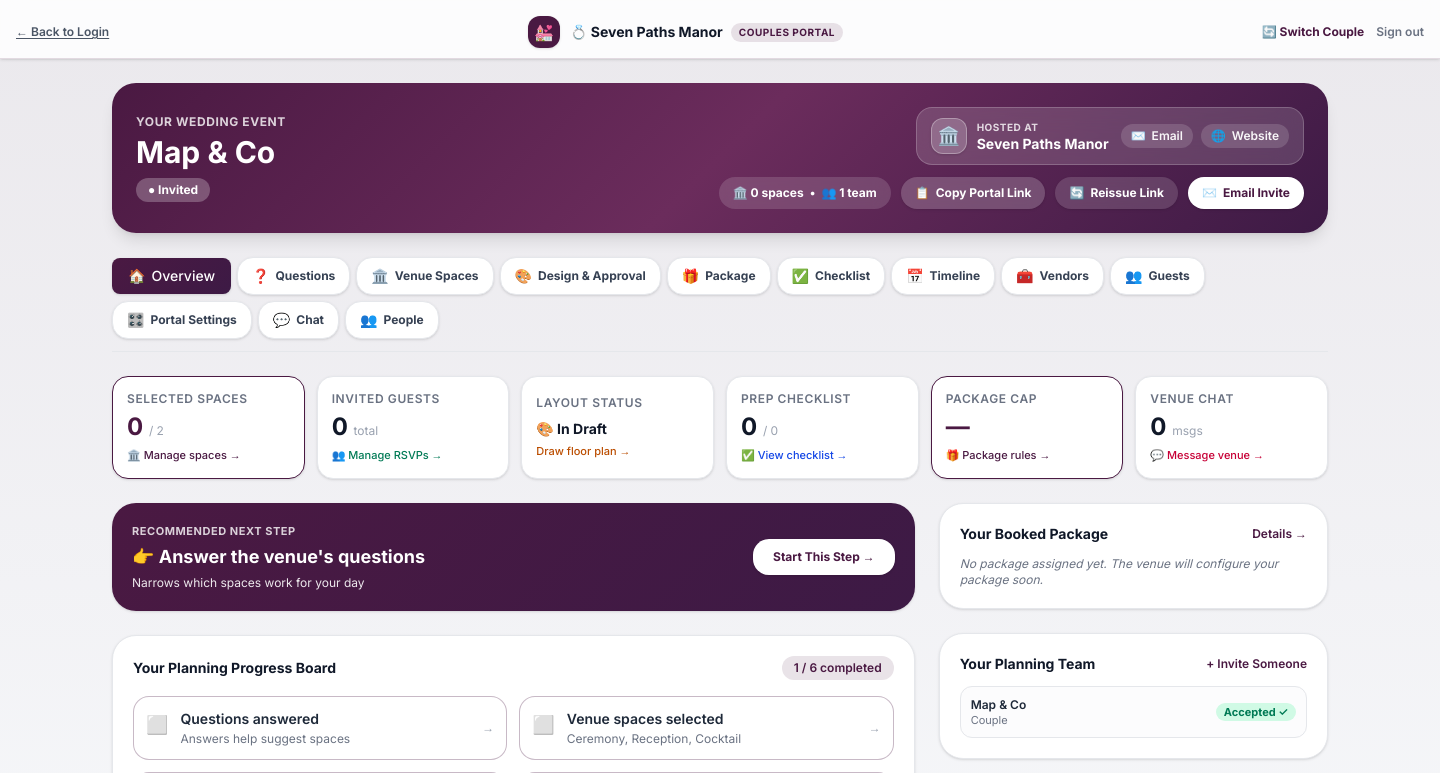
CouplesPortal › shows the interactive venue map and lets a couple open a space
Click the tab "🏛️ Venue Spaces" at (425, 276), box [356,257,494,295]
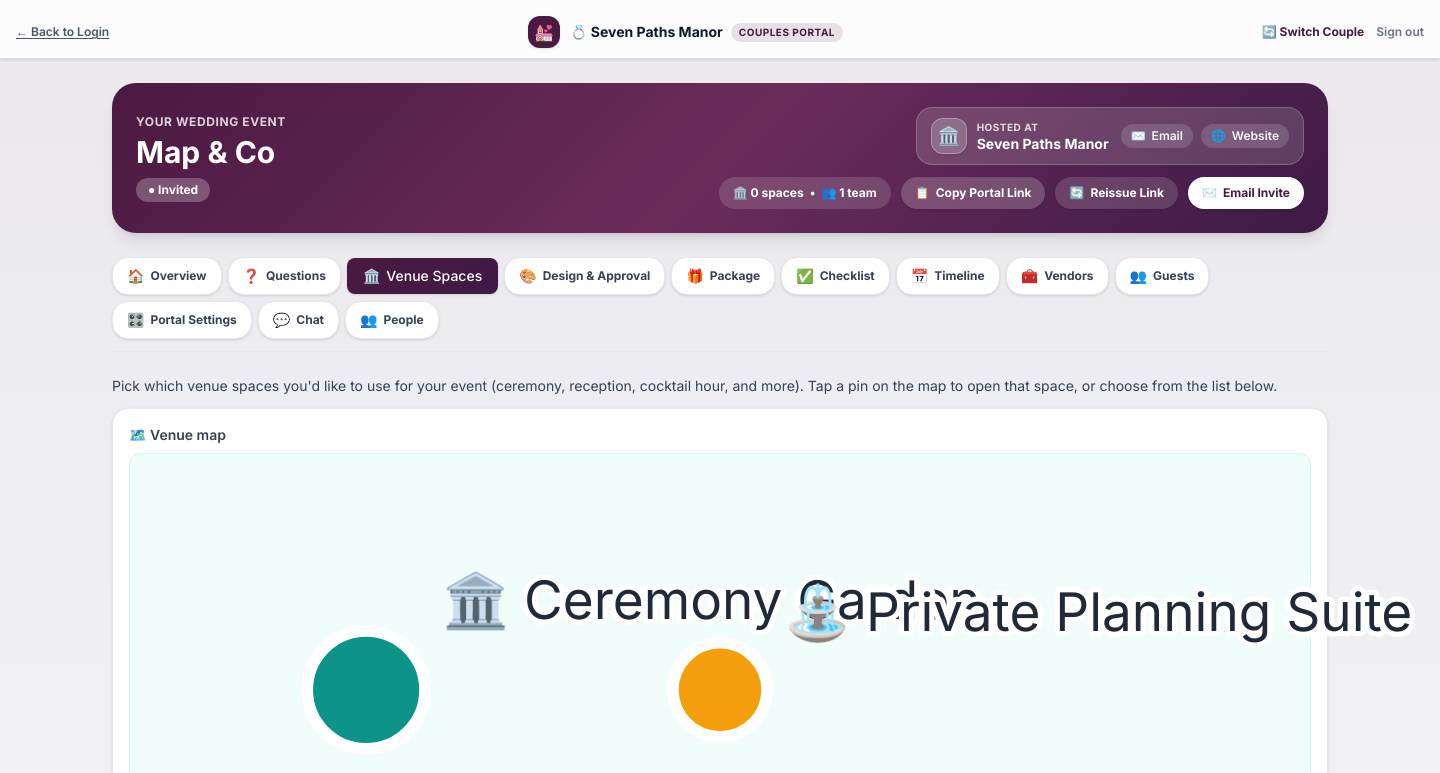
Expected: the text "Private Planning Suite" is shown, [785,580,1412,645]
Result: the heading "🗺️ Venue map" is shown at [129,426,226,443]
